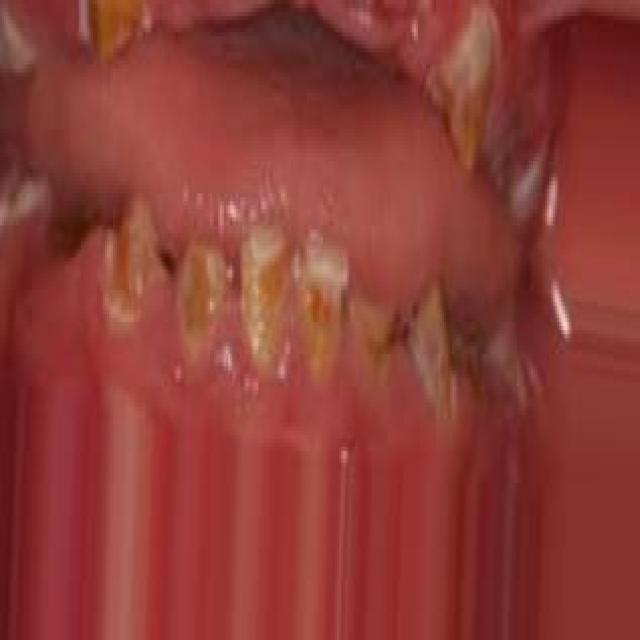caries: (428, 5, 503, 182), (294, 221, 353, 376), (105, 190, 167, 326), (407, 274, 457, 421), (173, 228, 230, 346), (236, 225, 290, 342), (350, 281, 404, 384), (75, 0, 153, 70)
